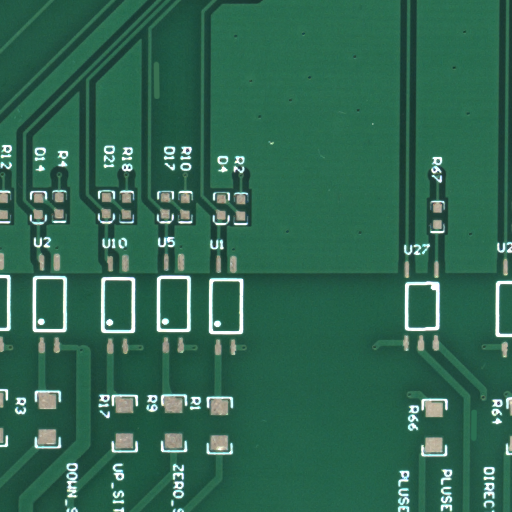Spurious_copper: (156, 80, 165, 120), (474, 426, 484, 461)
